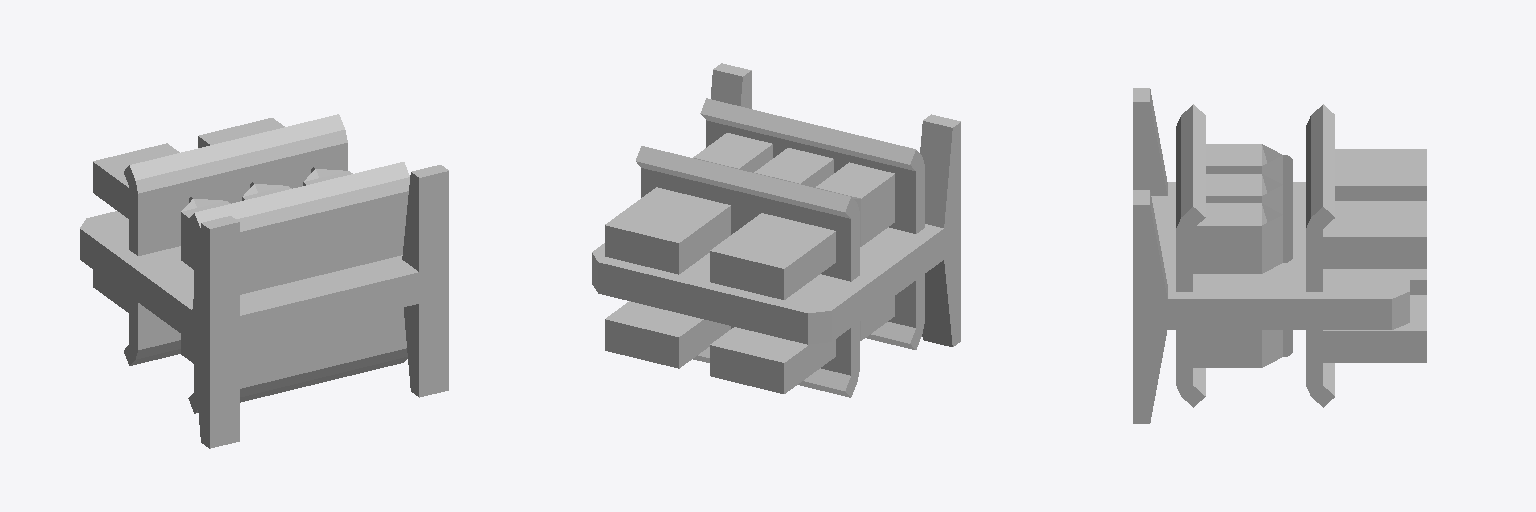
Rendered from shelf-boxes_w2_p350.001@object.obj.
The picture shows the model from 3 angles: view 1: azimuth 30°, elevation 25°; view 2: azimuth 150°, elevation 25°; view 3: azimuth 270°, elevation 25°; orthographic projection.
Parts seen in each view (by area): view 1: shelf-boxes.001; view 2: shelf-boxes.001; view 3: shelf-boxes.001.
Part boxes in pixels (x1,y1,x2,y2): shelf-boxes.001: (80,114,448,448); shelf-boxes.001: (592,63,960,397); shelf-boxes.001: (1133,88,1426,423).
Bounding box in the file's own units: 0.8 × 0.7 × 0.85.